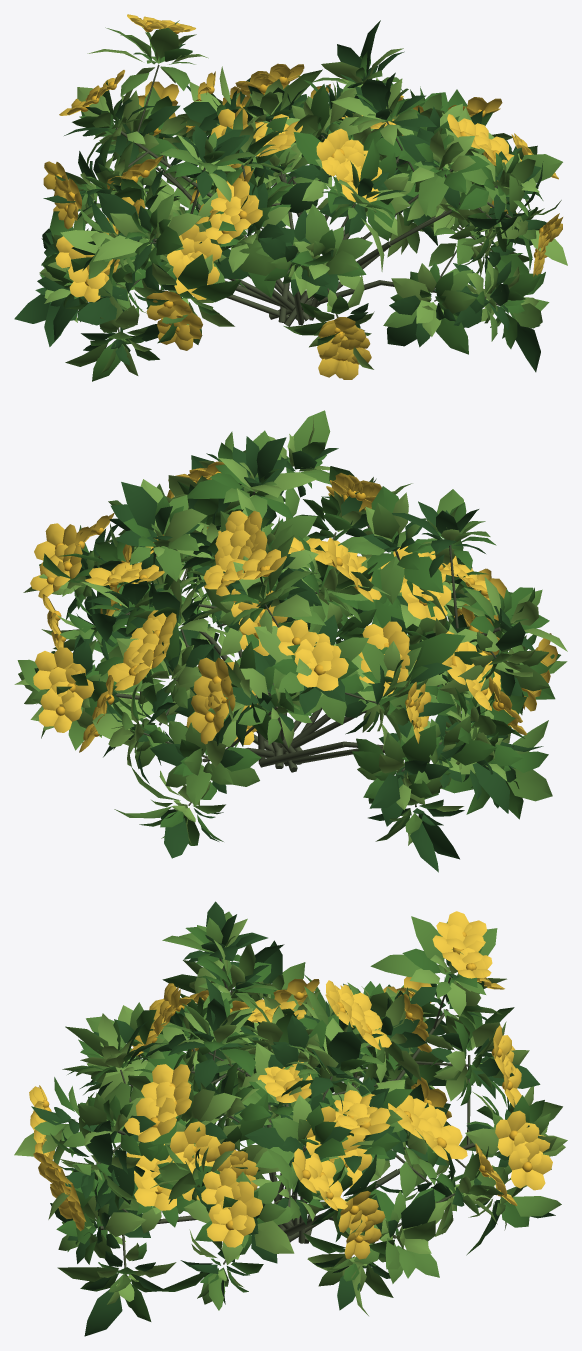
The model's file is shrub-03-yellow.glb.
3 renders of one model, top to bottom at view 1: azimuth 30°, elevation 25°; view 2: azimuth 150°, elevation 25°; view 3: azimuth 270°, elevation 25°, orthographic. The views are drawn at different scales.
Parts seen in each view (by area): view 1: foliage-1, foliage-2, foliage-4, foliage-3, flowers, branches, flower-centers; view 2: foliage-2, flowers, foliage-3, foliage-1, foliage-4, branches, flower-centers; view 3: flowers, foliage-3, foliage-1, foliage-4, foliage-2, branches, flower-centers.
Boxes of the visible parts, bbox=[...] form: foliage-1: bbox=[14, 20, 559, 372]; foliage-2: bbox=[39, 27, 545, 381]; foliage-4: bbox=[39, 20, 567, 375]; foliage-3: bbox=[51, 27, 562, 372]; flowers: bbox=[43, 14, 562, 379]; branches: bbox=[115, 64, 512, 332]; flower-centers: bbox=[54, 22, 550, 361]; foliage-2: bbox=[43, 442, 560, 845]; flowers: bbox=[30, 461, 557, 752]; foliage-3: bbox=[17, 410, 567, 841]; foliage-1: bbox=[34, 436, 543, 872]; foliage-4: bbox=[14, 417, 567, 845]; branches: bbox=[115, 491, 500, 807]; flower-centers: bbox=[46, 471, 527, 736]; flowers: bbox=[29, 911, 552, 1259]; foliage-3: bbox=[34, 911, 562, 1310]; foliage-1: bbox=[31, 901, 555, 1336]; foliage-4: bbox=[14, 918, 567, 1315]; foliage-2: bbox=[44, 927, 544, 1321]; branches: bbox=[96, 958, 496, 1267]; flower-centers: bbox=[42, 931, 532, 1242].
Size of the model in its own units: 1.34 by 0.7721 by 1.26.
